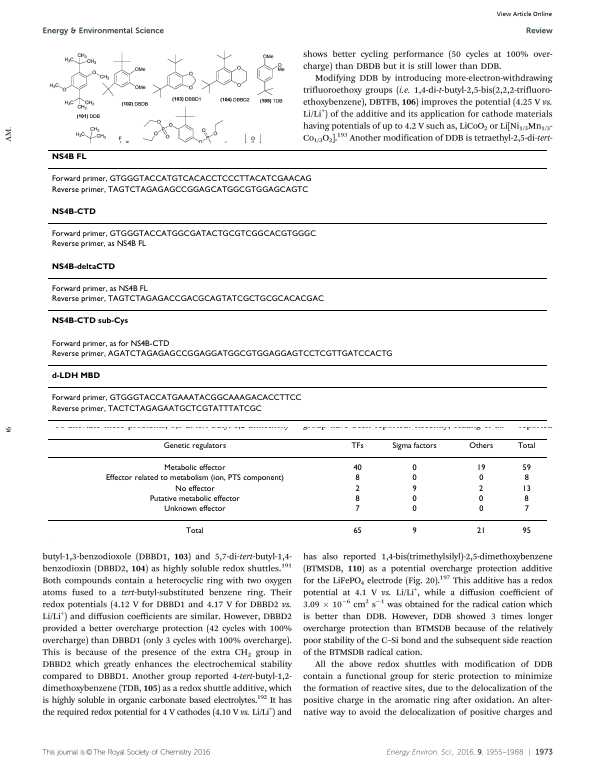borderless: (47, 148, 547, 420), (46, 437, 548, 544)
cell: (50, 349, 393, 359), (50, 294, 324, 304), (50, 229, 317, 239), (50, 185, 309, 195), (50, 175, 312, 184), (50, 394, 302, 403), (50, 404, 262, 414), (104, 474, 284, 484), (50, 339, 170, 349), (50, 284, 148, 294), (148, 494, 240, 504), (50, 240, 147, 249), (50, 317, 129, 326), (50, 262, 116, 272), (162, 441, 227, 451), (163, 464, 226, 473), (163, 505, 226, 514), (50, 207, 96, 217), (391, 441, 437, 451), (50, 372, 100, 381), (174, 484, 215, 494), (50, 153, 87, 162), (468, 441, 494, 451), (516, 441, 536, 451), (185, 527, 204, 537), (350, 441, 364, 451), (521, 484, 531, 494), (352, 527, 362, 537), (476, 527, 486, 537), (521, 527, 531, 537), (352, 464, 362, 473), (476, 464, 486, 473), (521, 464, 531, 473), (354, 474, 360, 484), (411, 474, 417, 484), (478, 474, 484, 484), (523, 474, 529, 484), (354, 484, 360, 494), (411, 484, 417, 494), (478, 484, 484, 494), (354, 494, 360, 504), (411, 494, 417, 504), (478, 494, 484, 504), (523, 494, 529, 504), (411, 527, 417, 537), (411, 464, 417, 473), (354, 505, 360, 514), (411, 505, 417, 514), (478, 505, 484, 514), (523, 505, 529, 514)
